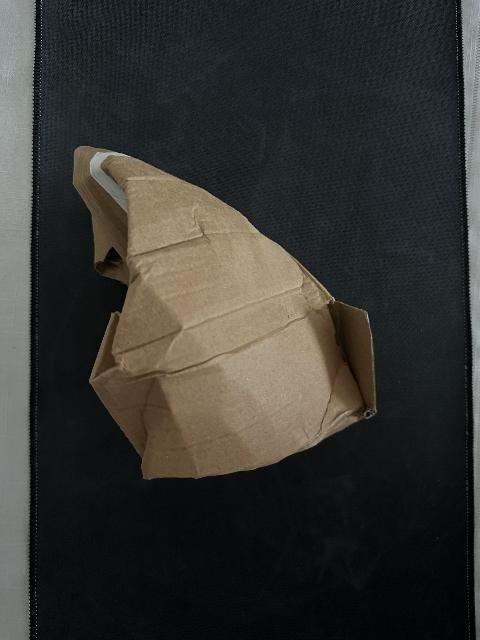Kagit: (72, 144, 381, 480)
